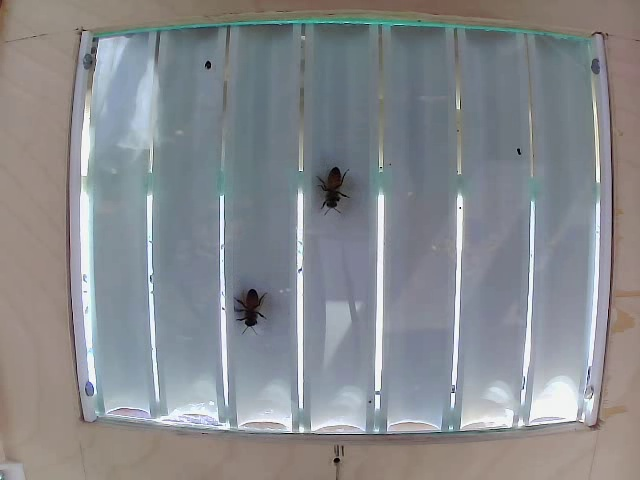bee: (222, 284, 268, 337), (312, 153, 351, 211)
